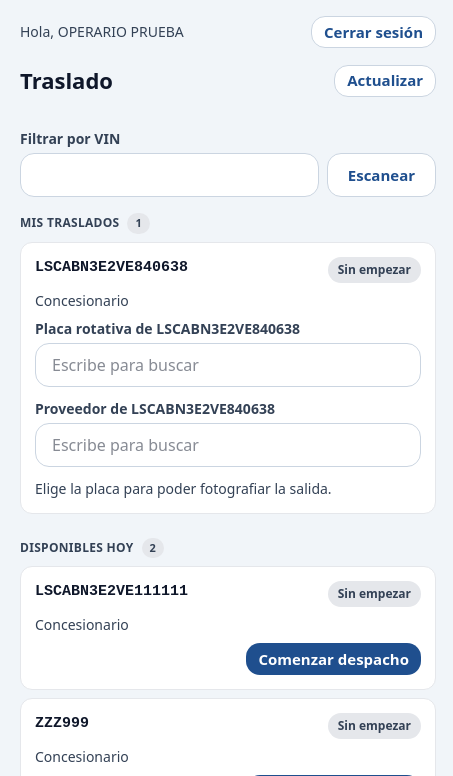
it: AC3 · el filtro de VIN trabaja sobre lo ya cargado › las cuentas de cada sección siguen al filtro
Expected: the text "ZZZ999" is shown, [35,713,89,736]
Type "ZZZ" into the search field labelled "Filtrar por VIN".
click(169, 175); type("ZZZ")  # box [20,153,319,197]
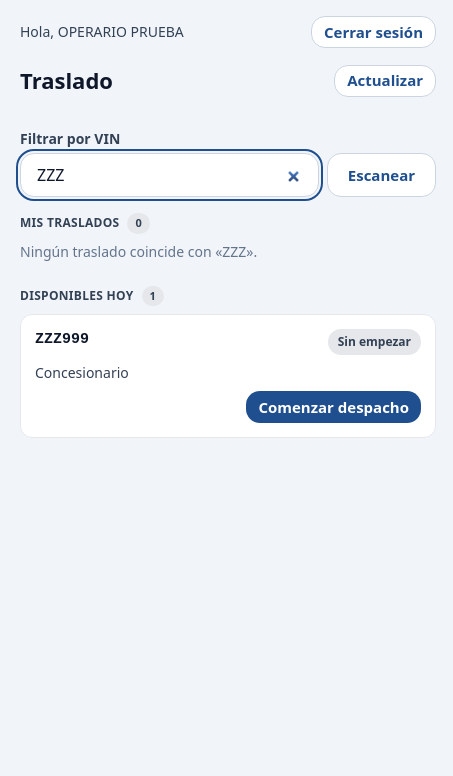
Result: the heading "Mis traslados 0" is shown at [20,213,150,234]
Result: the heading "Disponibles hoy 1" is shown at [20,286,164,306]
